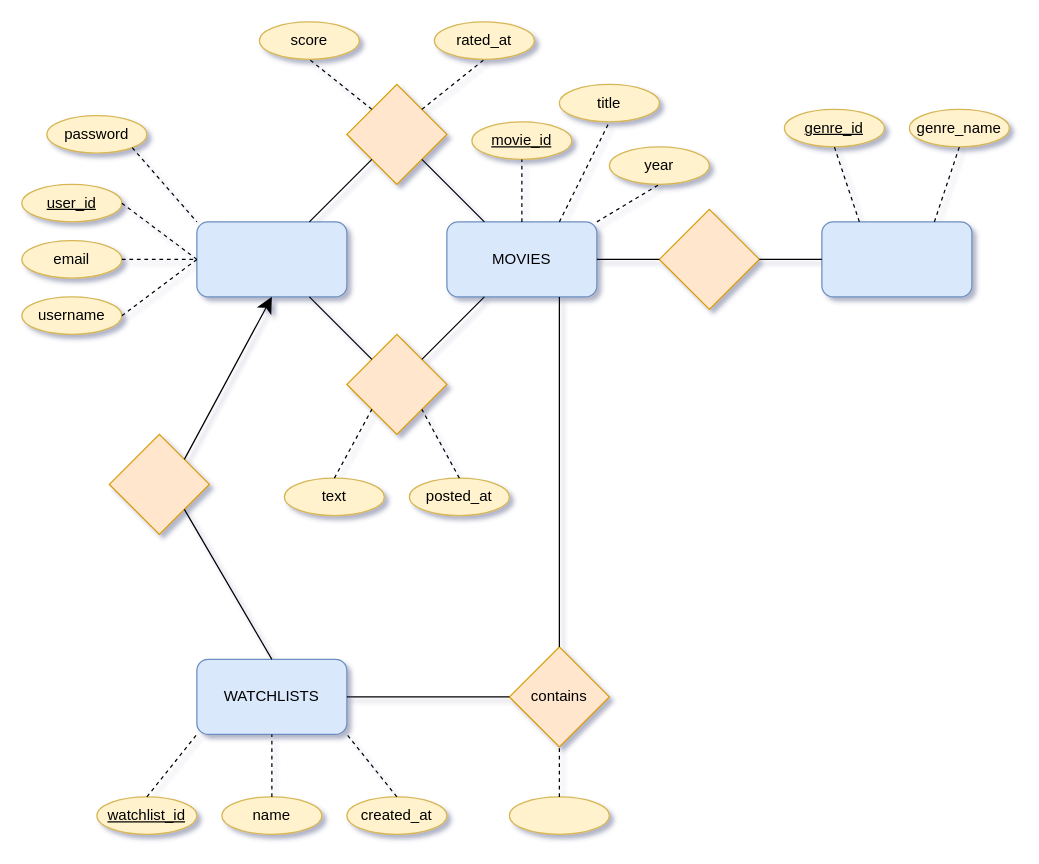
Image size: 1039x864. Some labels were removed from this diagram. The shapes that lost their labels are listed below. From the top down, each one's centre as x and y in pixels, then its label:
the point at 396,133: rates
the point at 271,259: USERS
the point at 708,258: tagged
the point at 896,259: GENRES
the point at 396,383: reviews
the point at 158,483: creates
the point at 558,815: added_at
